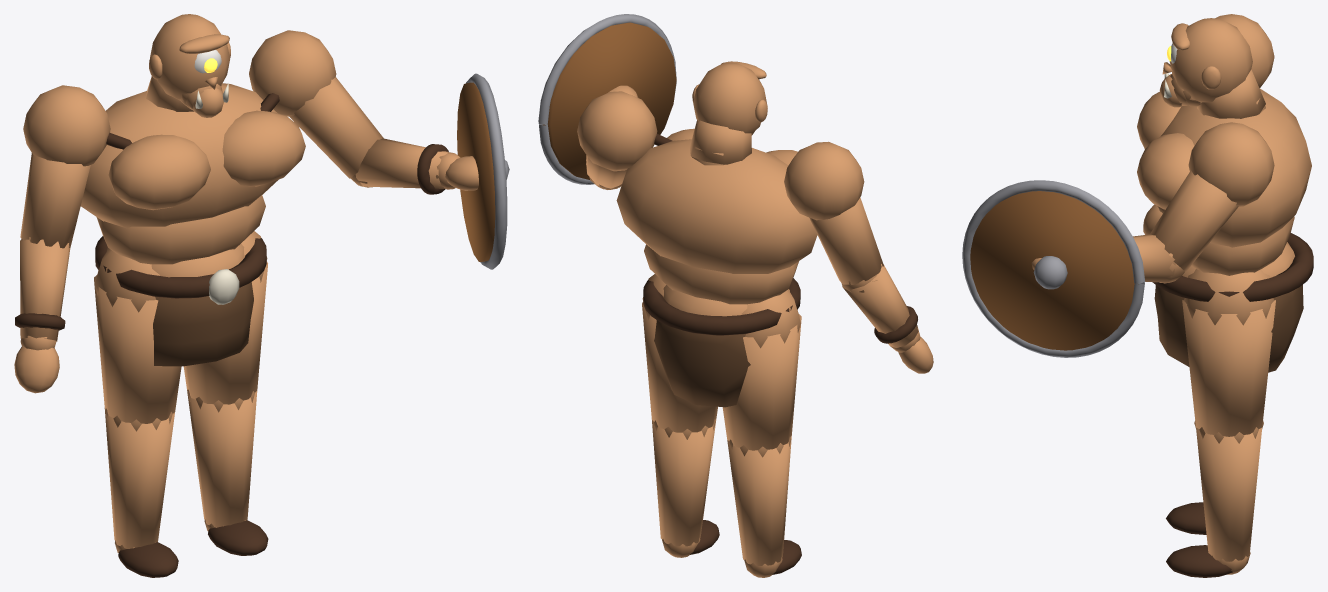
File: cyclops.glb
3 views of the same model, side by side, from view 1: azimuth 30°, elevation 25°; view 2: azimuth 150°, elevation 25°; view 3: azimuth 270°, elevation 25° (orthographic). The views are drawn at different scales.
Parts seen in each view (by area): view 1: torso, pelvis, upperarm_R, upperarm_L, thigh_R, hand_L, shin_R, shin_L, head, forearm_R, thigh_L, forearm_L (+3 smaller); view 2: torso, hand_L, pelvis, upperarm_R, thigh_R, shin_R, shin_L, upperarm_L, head, thigh_L, forearm_R, hand_R (+2 smaller); view 3: hand_L, torso, thigh_L, upperarm_L, pelvis, shin_L, head, upperarm_R, forearm_L, foot_L, foot_R.
Boxes of the visible parts, x1,y1,x2,y2 form: torso: (81, 76, 305, 264); pelvis: (95, 236, 266, 366); upperarm_R: (20, 85, 110, 248); upperarm_L: (249, 30, 383, 185); thigh_R: (94, 248, 181, 431); hand_L: (445, 73, 509, 269); shin_R: (104, 408, 174, 552); shin_L: (187, 389, 257, 531); head: (149, 14, 230, 117); forearm_R: (15, 237, 70, 350); thigh_L: (183, 231, 267, 410); forearm_L: (351, 138, 460, 194); torso: (616, 120, 817, 304); hand_L: (538, 14, 676, 184); pelvis: (643, 278, 800, 407); upperarm_R: (784, 141, 883, 292); thigh_R: (722, 289, 801, 457); shin_R: (727, 436, 791, 577); shin_L: (652, 419, 716, 557); upperarm_L: (577, 91, 657, 189); head: (692, 61, 767, 135); thigh_L: (642, 274, 717, 436); forearm_R: (841, 264, 920, 352); hand_R: (898, 337, 933, 373); hand_L: (962, 180, 1145, 357); torso: (1137, 69, 1311, 275); thigh_L: (1182, 269, 1275, 443); upperarm_L: (1150, 122, 1274, 283); pelvis: (1152, 233, 1313, 372); shin_L: (1194, 420, 1263, 574); head: (1159, 18, 1252, 107); upperarm_R: (1215, 14, 1274, 88); forearm_L: (1133, 234, 1184, 282); foot_L: (1166, 545, 1232, 577); foot_R: (1166, 502, 1206, 534).
Bounding box in the file's own units: 3.5 × 4.08 × 2.45.
